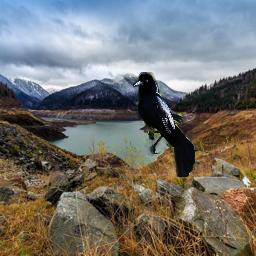Crow: (133, 72, 195, 177)
